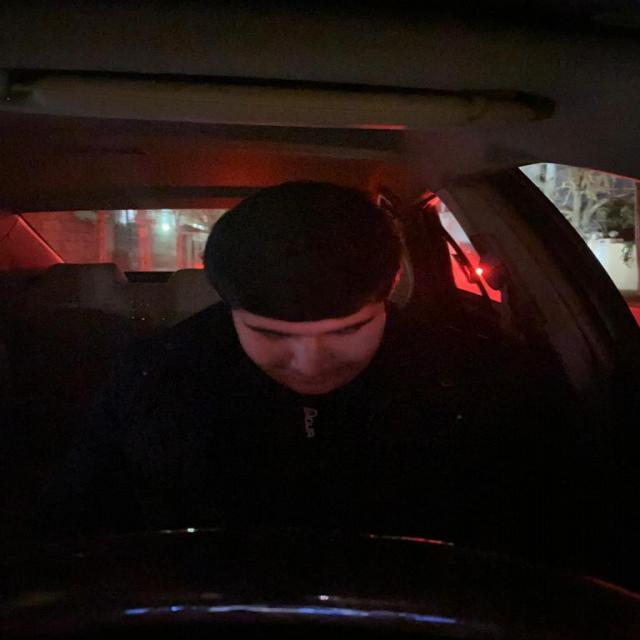drowsy: (198, 177, 414, 398)
